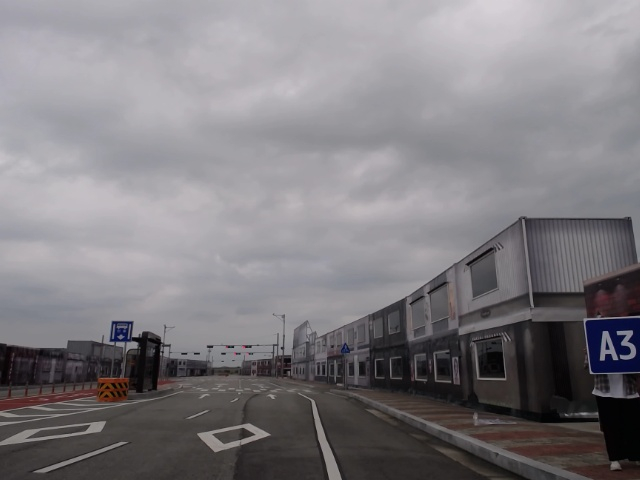delivery_a3: (584, 317, 639, 374)
